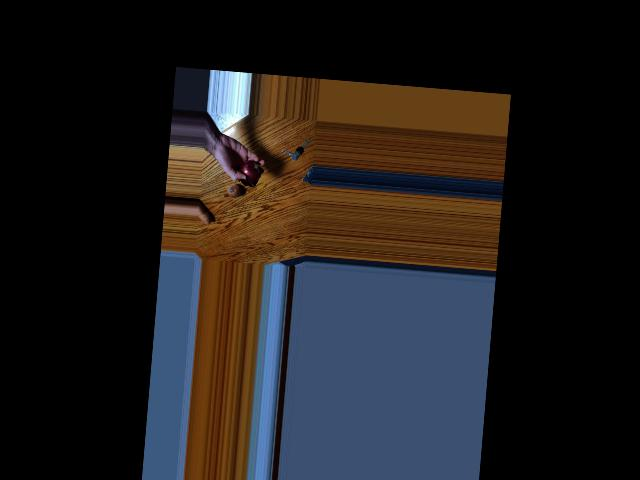onion: (226, 176, 243, 200)
